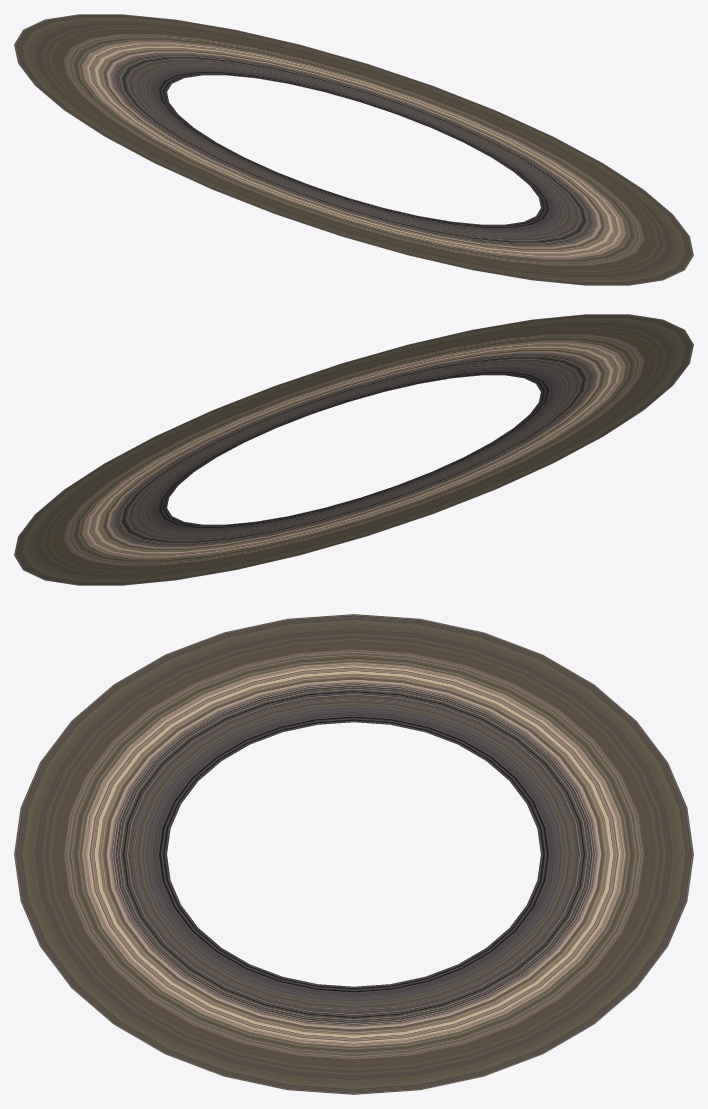
Rendered from SaturnRing.glb.
The picture shows the model from 3 angles, top to bottom: view 1: azimuth 30°, elevation 25°; view 2: azimuth 150°, elevation 25°; view 3: azimuth 270°, elevation 25°; orthographic projection. The views are drawn at different scales.
Visible parts, largest first — view 1: Ring(Clone); view 2: Ring(Clone); view 3: Ring(Clone).
Boxes of the visible parts, x1,y1,x2,y2 form: Ring(Clone): (14,14,693,285); Ring(Clone): (14,314,693,585); Ring(Clone): (14,614,693,1094).
Bounding box in the file's own units: 3.76 × 1.37 × 4.
Materials: 1 (1 with a texture image).
